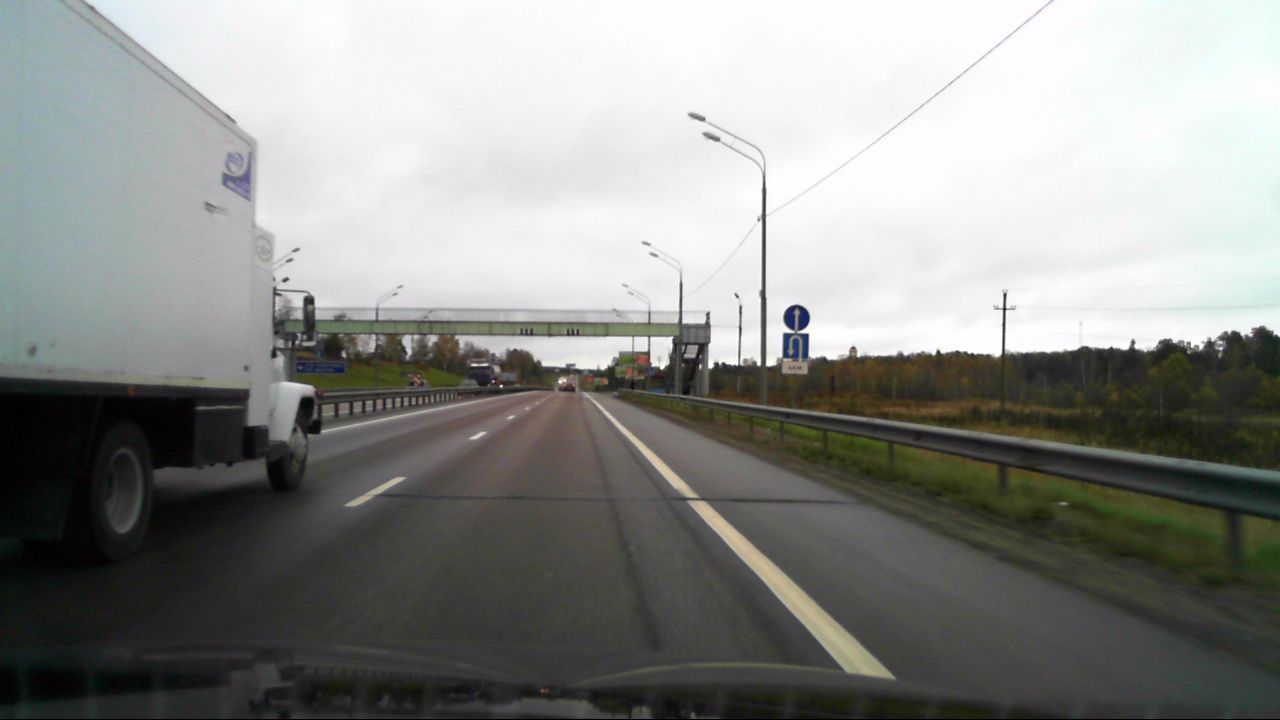U-turn: (783, 333, 809, 359)
